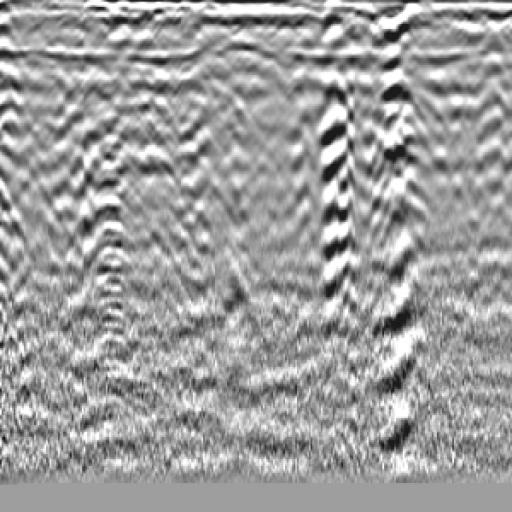metalic: (363, 34, 439, 326)
